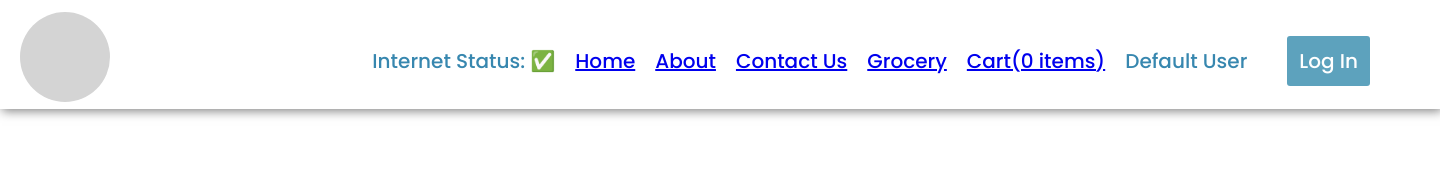
Test: should change the login button to logout button on click
This screenshot has width=1440, height=172.
Click the button "Log In" at (1329, 60), box [1287,36,1370,86]
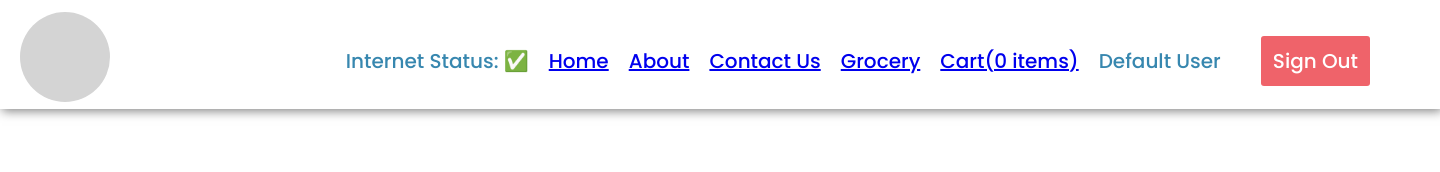
Now the button "Sign Out" is shown, box [1261,36,1370,86]
